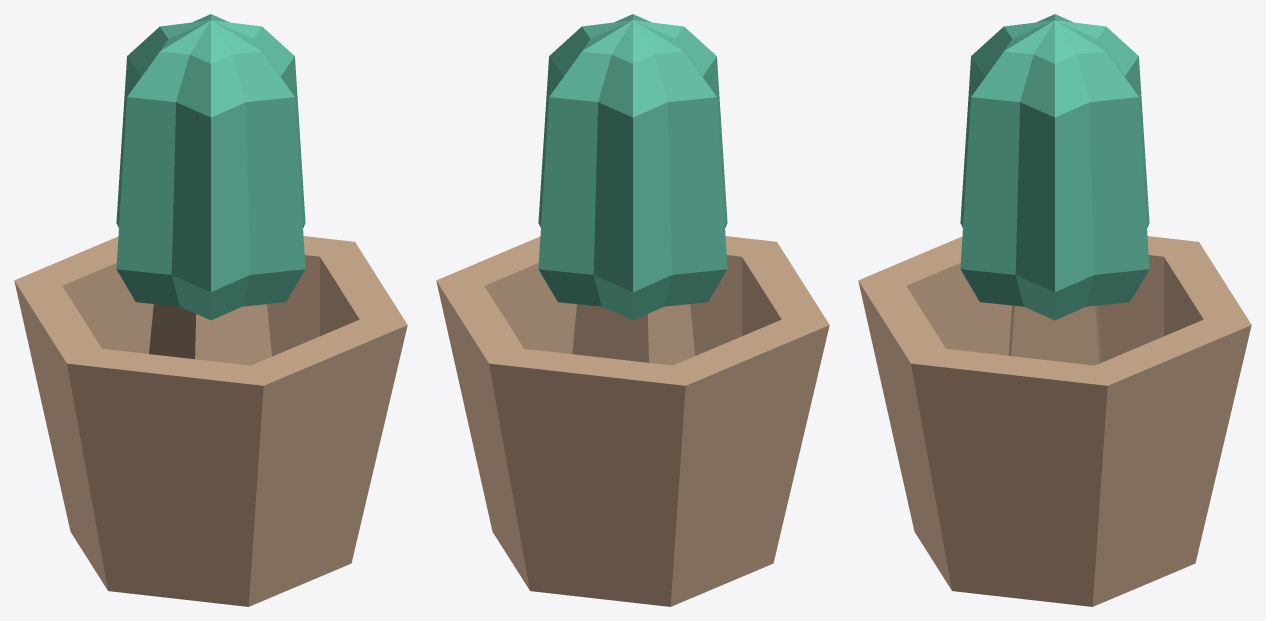
File: plantSmall2.glb
3 renders of one model, left to right at view 1: azimuth 30°, elevation 25°; view 2: azimuth 150°, elevation 25°; view 3: azimuth 270°, elevation 25°, orthographic.
Parts seen in each view (by area): view 1: plantSmall2; view 2: plantSmall2; view 3: plantSmall2.
Part boxes in pixels (x1=…): plantSmall2: x1=14, y1=14, x2=407, y2=606; plantSmall2: x1=436, y1=14, x2=829, y2=606; plantSmall2: x1=858, y1=14, x2=1251, y2=606.
Size of the model in its own units: 0.0947 by 0.14 by 0.0947.
